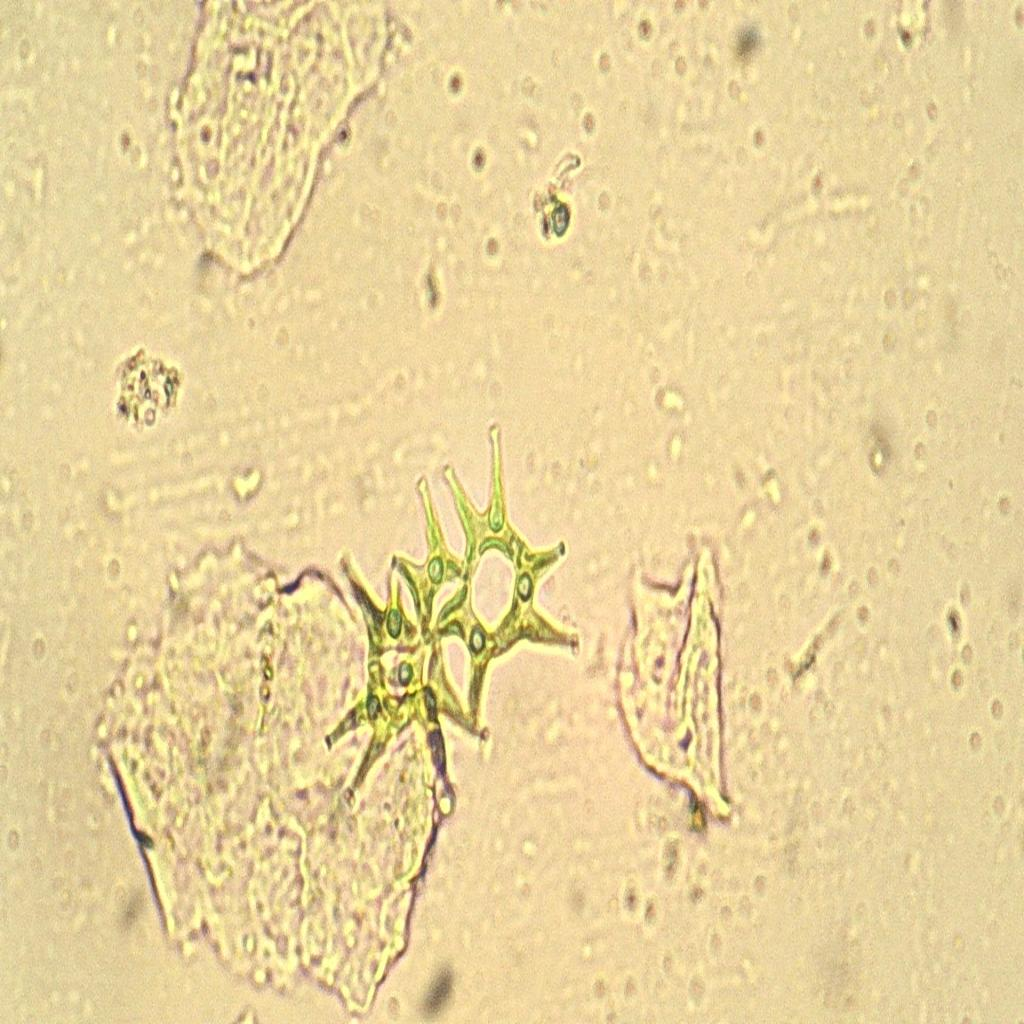Pediastrum_CFI: (306, 406, 596, 826)
